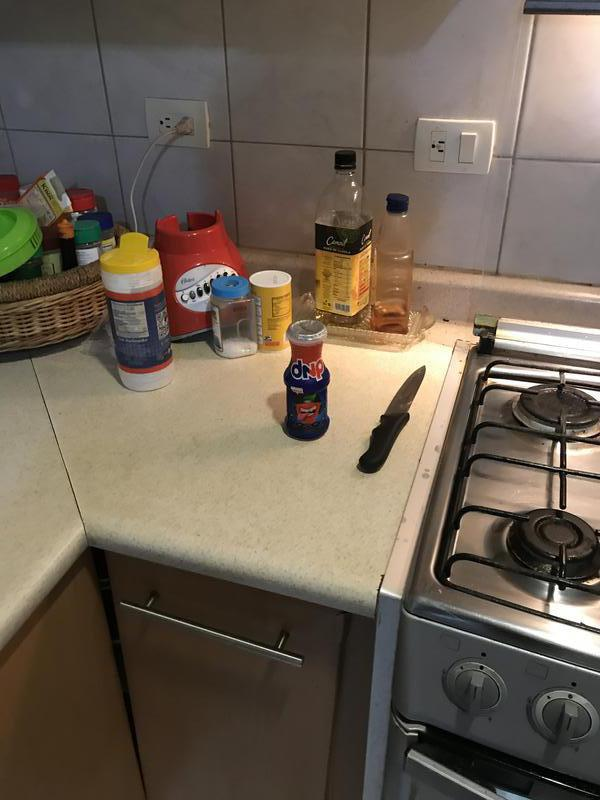danup: (277, 319, 334, 442)
